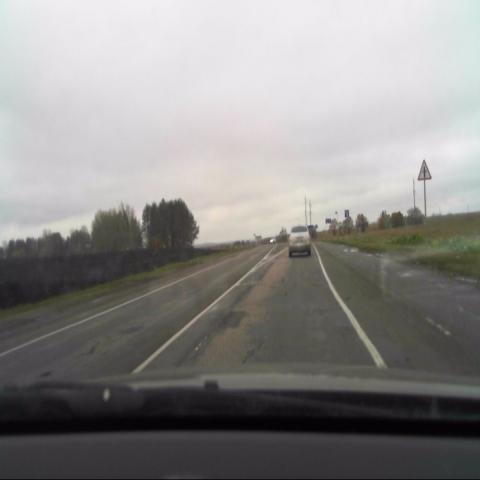2_3: (417, 159, 432, 182)
